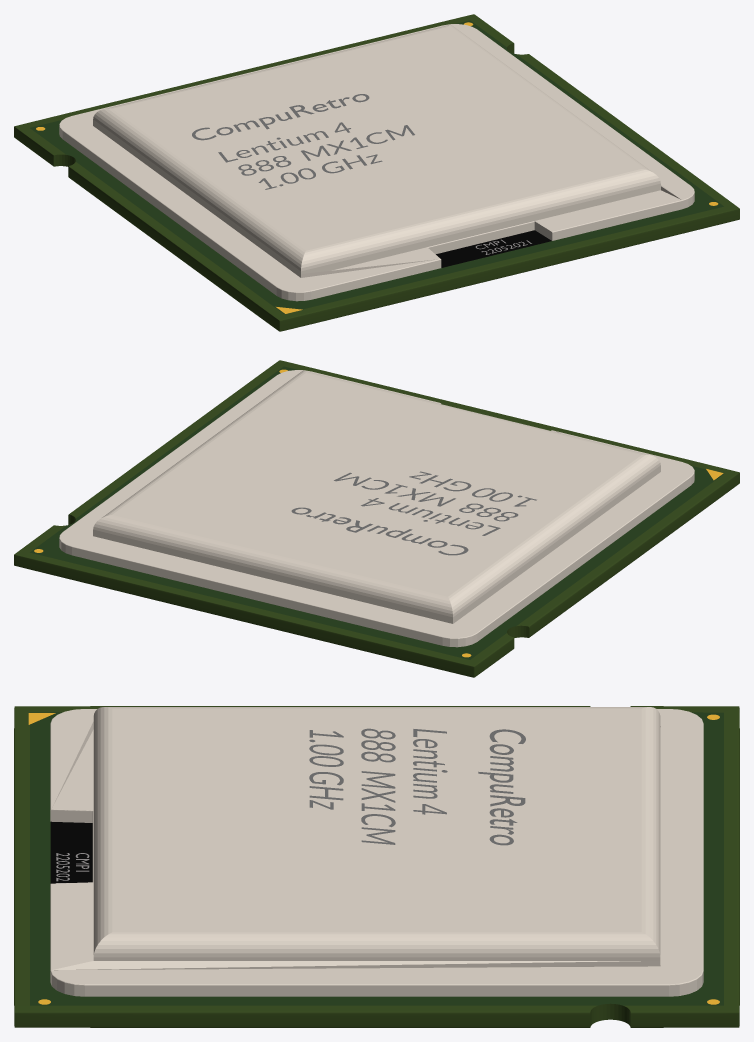
Rendered from computer_processorb.glb.
3 renders of one model, top to bottom at view 1: azimuth 30°, elevation 25°; view 2: azimuth 150°, elevation 25°; view 3: azimuth 270°, elevation 25°, orthographic. The views are drawn at different scales.
Visible parts, largest first — view 1: 9c9d8bde-f081-4376-a3e4-cfdad504c6c7; view 2: 9c9d8bde-f081-4376-a3e4-cfdad504c6c7; view 3: 9c9d8bde-f081-4376-a3e4-cfdad504c6c7.
Boxes of the visible parts, bbox=[...] form: 9c9d8bde-f081-4376-a3e4-cfdad504c6c7: bbox=[14, 14, 739, 331]; 9c9d8bde-f081-4376-a3e4-cfdad504c6c7: bbox=[14, 360, 739, 677]; 9c9d8bde-f081-4376-a3e4-cfdad504c6c7: bbox=[14, 706, 739, 1027].
Size of the model in its own units: 0.05 by 0.00465 by 0.05.
